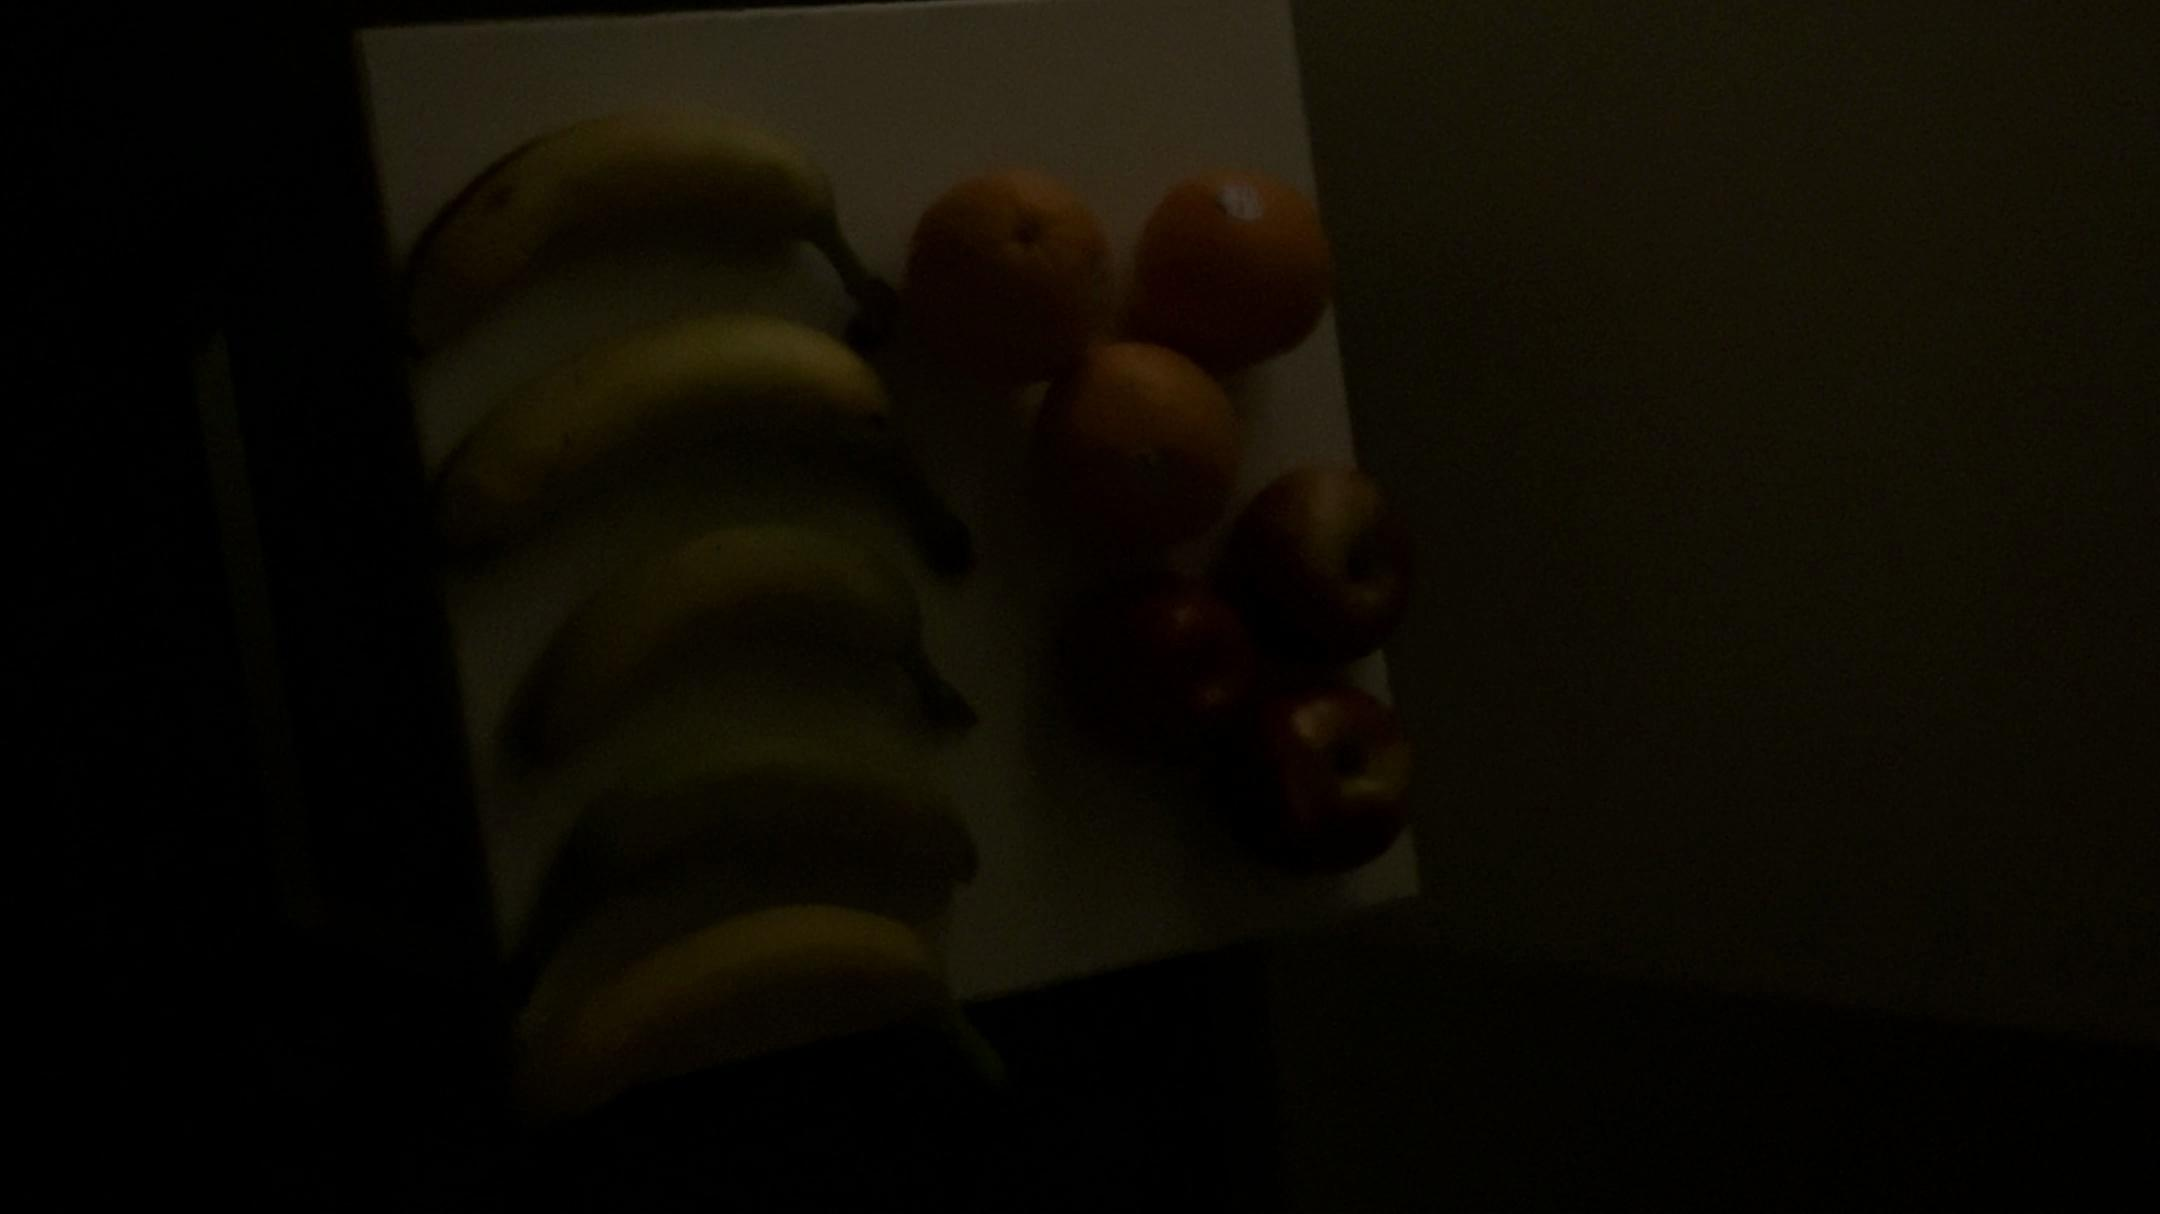apple: (1227, 672, 1426, 890), (1237, 459, 1443, 657), (1067, 565, 1248, 767)
banana: (451, 549, 1035, 781), (383, 119, 915, 358), (404, 332, 942, 536), (516, 895, 1030, 1107), (450, 745, 1003, 931)
orange: (1033, 338, 1236, 558), (1139, 159, 1334, 380), (911, 169, 1125, 367)
